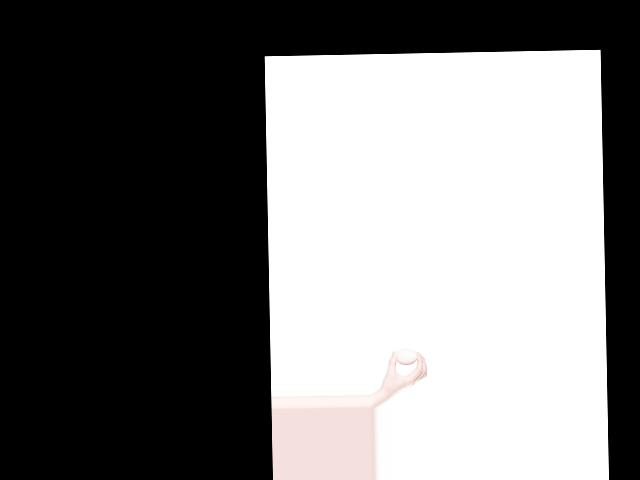egg: (395, 348, 417, 365)
